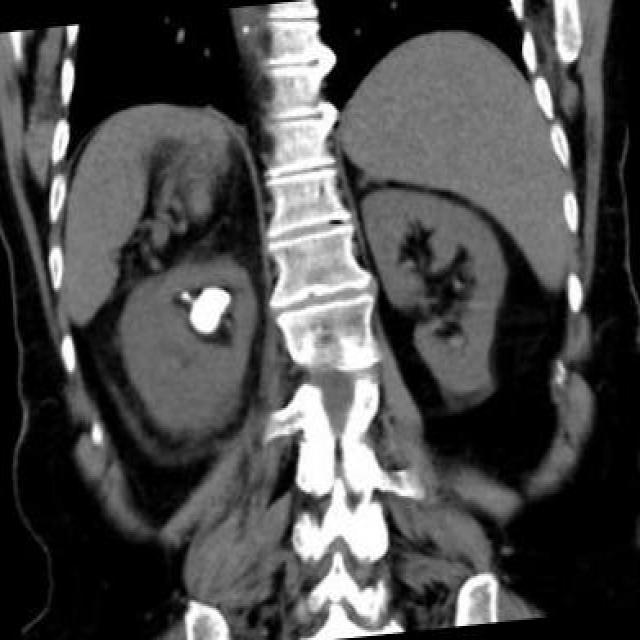Tas_Var: (184, 278, 233, 340), (178, 286, 192, 304)
